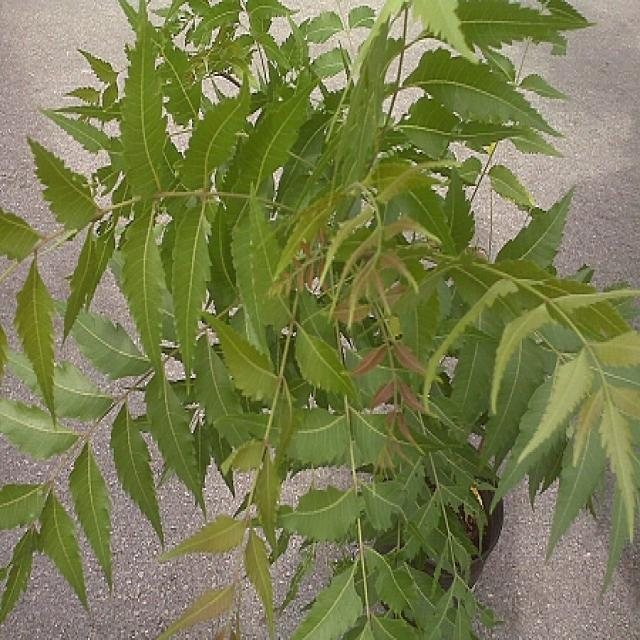Medicinal-Neem: (0, 5, 640, 640)
